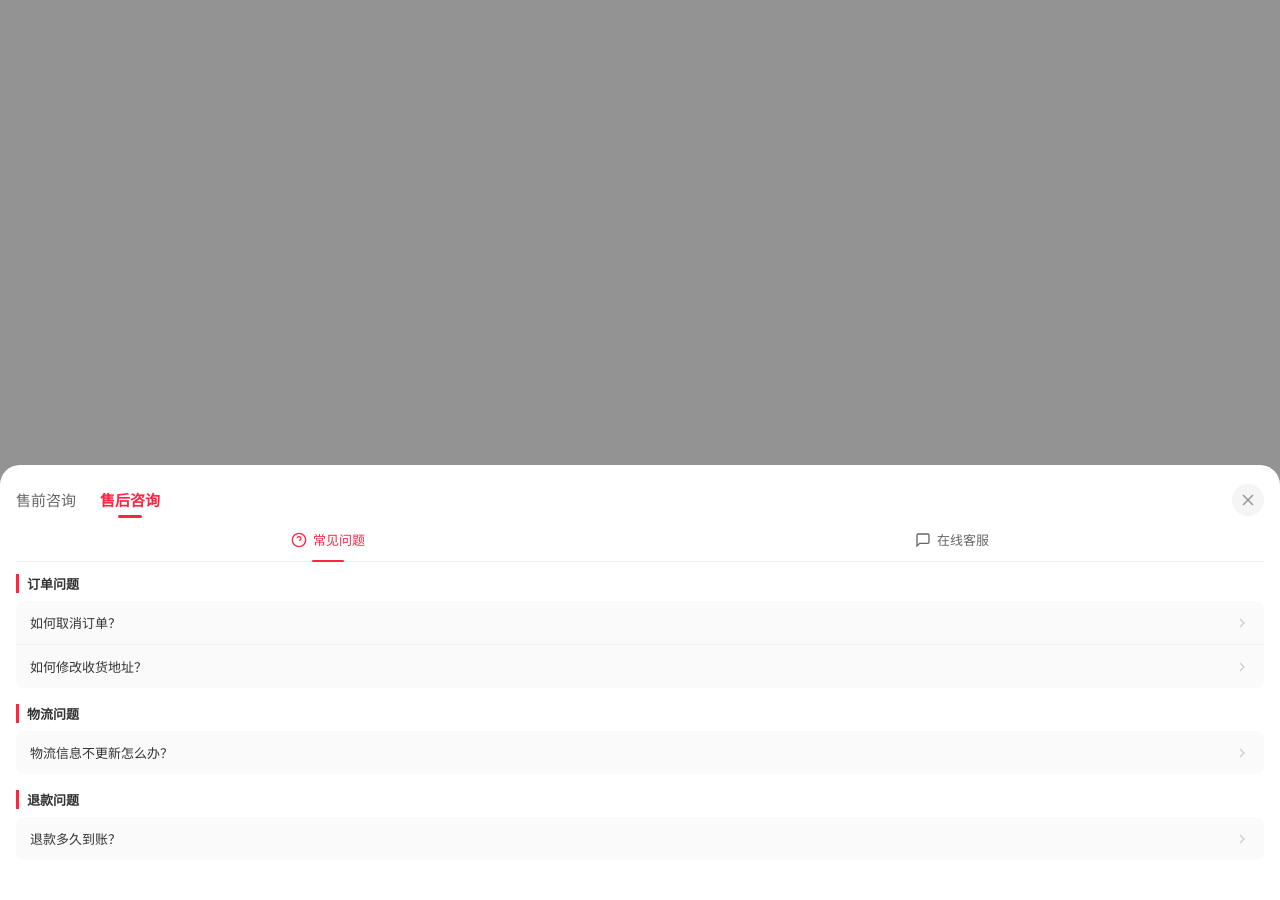
Test: CsServicePanel 联系客服入口 › 聊天模式 › 切换到在线客服应显示欢迎消息
Click the element with class "cs-tabs-bar__item" showing "在线客服" at point(952, 540), box [915,532,989,548]
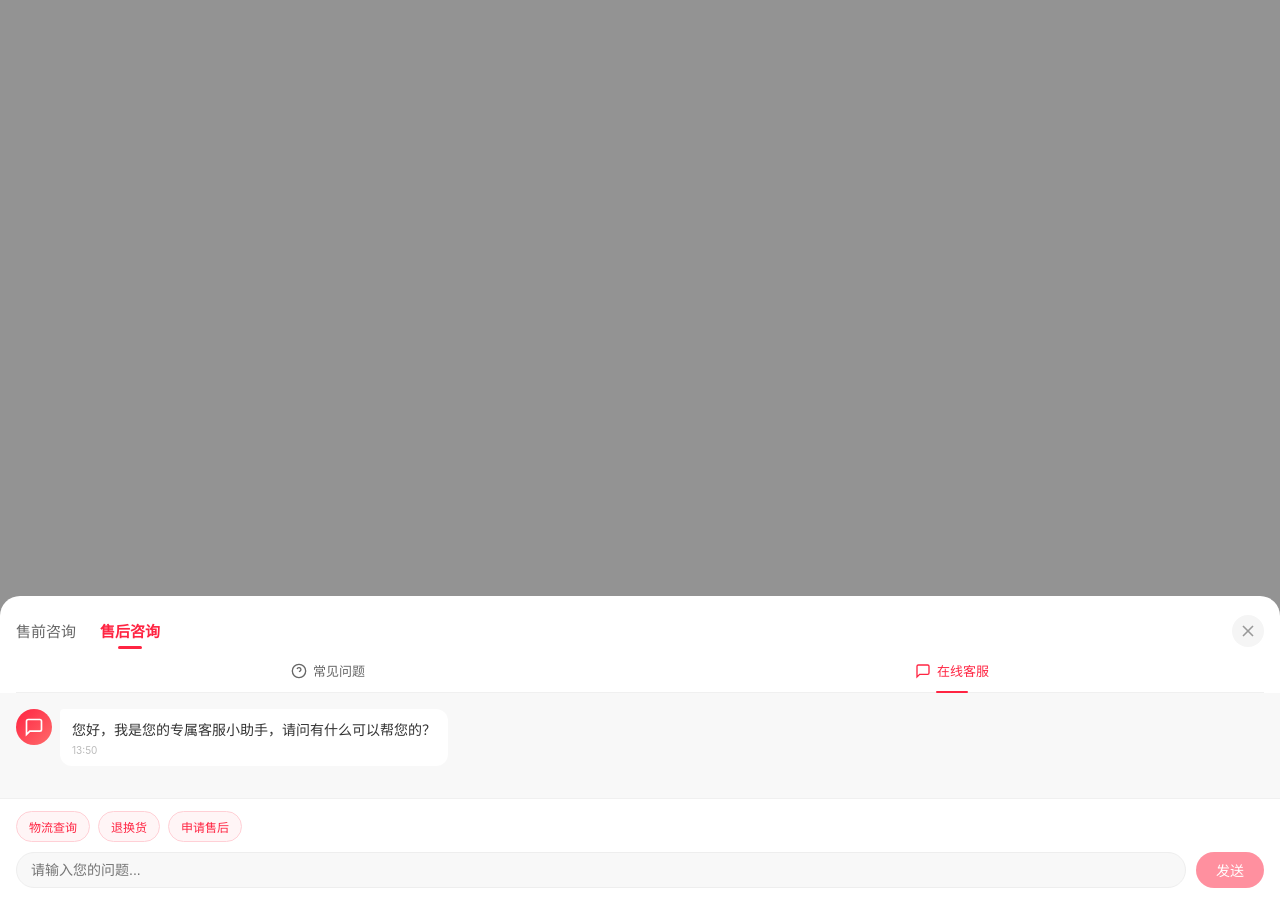
Now the element with class "chat-section" is shown, box [0,693,1279,899]
